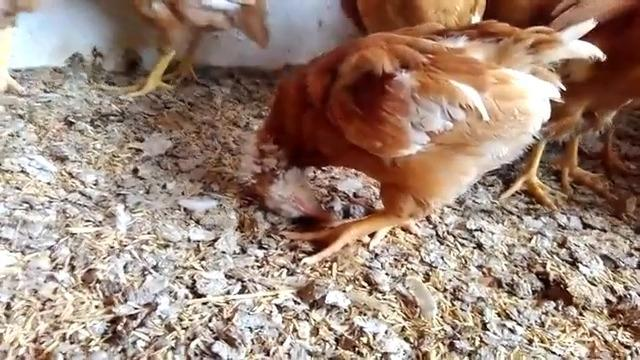AbNormal: (211, 19, 613, 268)
